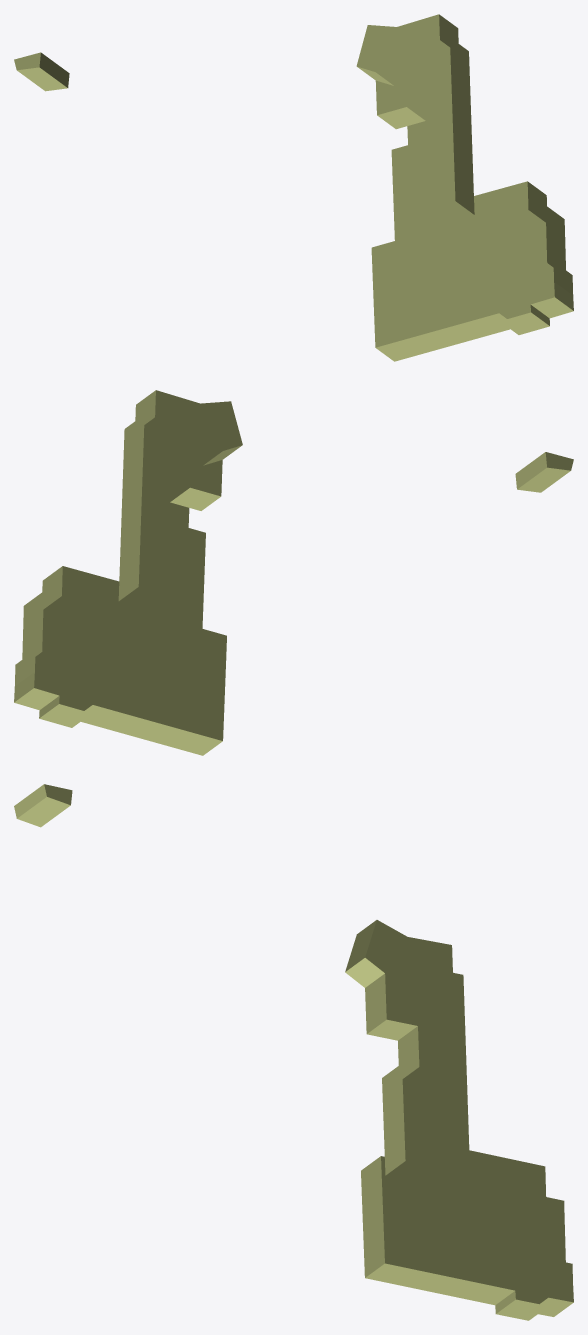
3 views of the same model, one above another, from view 1: azimuth 30°, elevation 25°; view 2: azimuth 150°, elevation 25°; view 3: azimuth 330°, elevation 25° (orthographic). The views are drawn at different scales.
Visible parts, largest first — view 1: 0_0_1_3_2_2_3; view 2: 0_0_1_3_2_2_3; view 3: 0_0_1_3_2_2_3.
Boxes of the visible parts, x1,y1,x2,y2 form: 0_0_1_3_2_2_3: [14, 14, 573, 361]; 0_0_1_3_2_2_3: [14, 390, 573, 755]; 0_0_1_3_2_2_3: [14, 784, 573, 1320].
Bounding box in the file's own units: 94.72 × 62.85 × 11.9.
